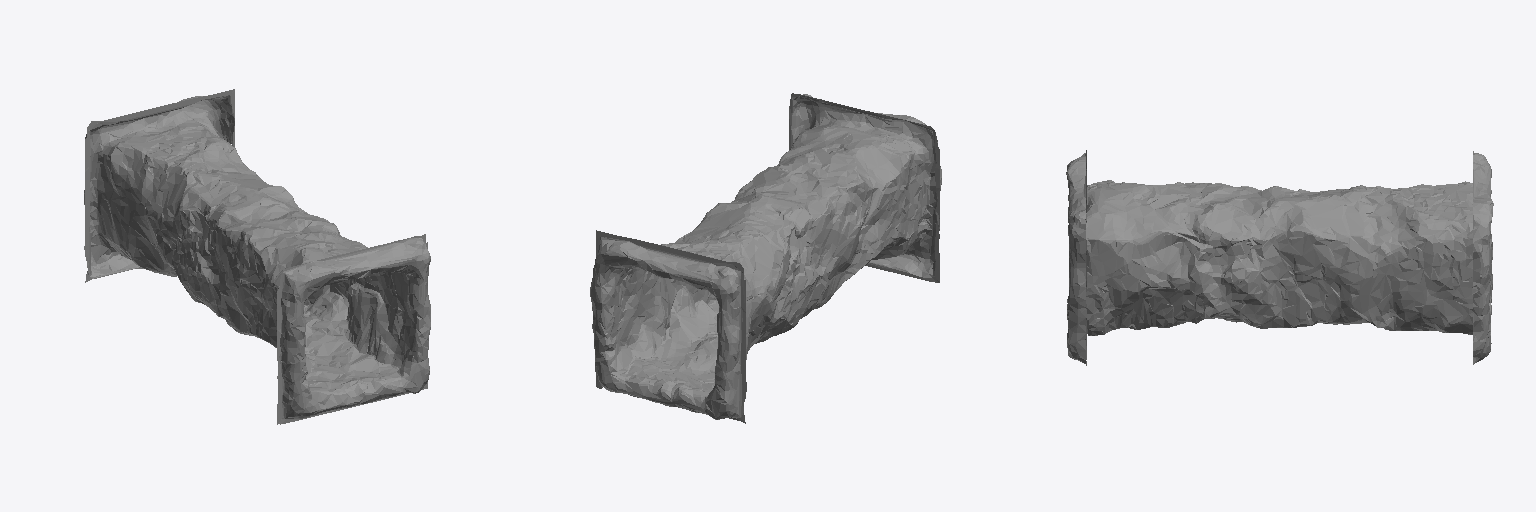
File: zisb_cave_short_1.obj
3 renders of one model, left to right at view 1: azimuth 30°, elevation 25°; view 2: azimuth 150°, elevation 25°; view 3: azimuth 270°, elevation 25°, orthographic.
Visible parts, largest first — view 1: defaultobject_defaultobject; view 2: defaultobject_defaultobject; view 3: defaultobject_defaultobject.
Boxes of the visible parts, <box> form: defaultobject_defaultobject: <box>84,89,430,424</box>; defaultobject_defaultobject: <box>590,93,941,423</box>; defaultobject_defaultobject: <box>1066,150,1493,365</box>.
Bounding box in the file's own units: 4.08 × 4.14 × 9.96.